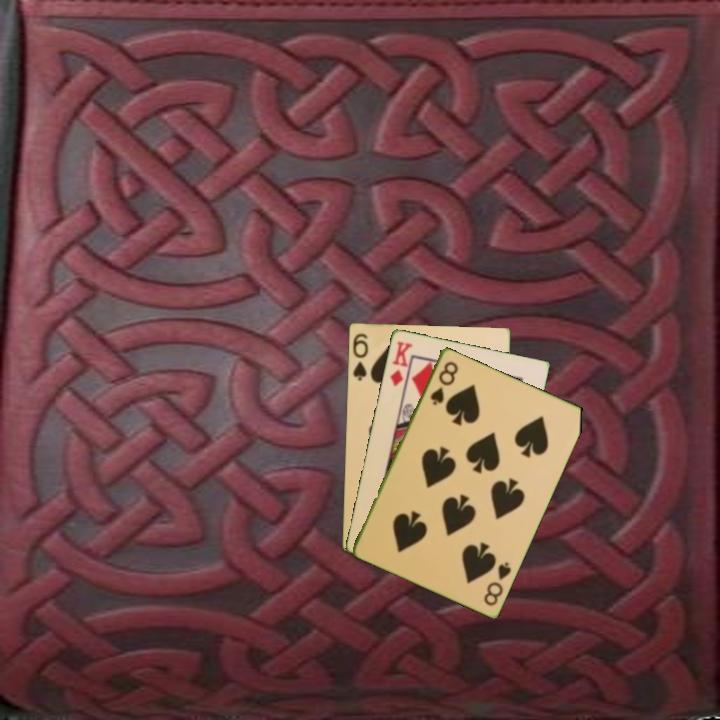6s: (349, 330, 371, 383)
8s: (426, 357, 461, 408), (480, 558, 514, 608)
Kd: (386, 337, 415, 389)
